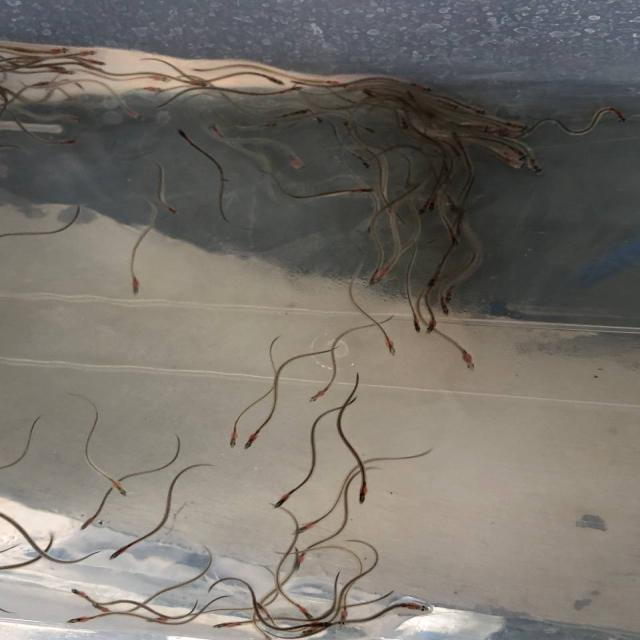glass_eel: (280, 146, 307, 170), (391, 598, 432, 613), (39, 41, 73, 58), (297, 617, 329, 635), (105, 541, 132, 562), (271, 489, 298, 509), (240, 430, 265, 451), (226, 425, 246, 450), (141, 613, 176, 627), (458, 349, 480, 371), (409, 82, 441, 97), (212, 619, 251, 631), (206, 121, 226, 144), (49, 135, 86, 147), (119, 107, 145, 124), (51, 114, 86, 126), (612, 108, 634, 127), (142, 71, 174, 84), (504, 154, 527, 172), (46, 62, 75, 76), (349, 183, 378, 197), (292, 520, 321, 534), (91, 600, 120, 614), (64, 613, 91, 628), (289, 553, 309, 573), (332, 607, 352, 627), (309, 383, 330, 402), (67, 588, 95, 602), (286, 105, 310, 121), (530, 158, 549, 178), (449, 130, 469, 149), (425, 270, 444, 290), (109, 478, 129, 497), (424, 312, 438, 339), (140, 84, 169, 97), (383, 333, 398, 358), (438, 295, 454, 318), (309, 617, 335, 631), (310, 78, 343, 89), (355, 153, 374, 172), (277, 82, 307, 94), (362, 268, 382, 286), (442, 284, 458, 306), (293, 604, 315, 620), (77, 58, 112, 68), (255, 74, 284, 86), (62, 48, 96, 58), (188, 78, 214, 91), (409, 312, 424, 334), (80, 512, 96, 532), (128, 276, 144, 296), (415, 198, 432, 216), (173, 131, 196, 144), (394, 117, 413, 132), (512, 122, 532, 136), (429, 193, 441, 216), (441, 100, 462, 113), (376, 267, 392, 284), (32, 82, 61, 91), (250, 601, 270, 614), (341, 120, 356, 137), (448, 141, 465, 156), (356, 488, 368, 508), (163, 202, 181, 214), (469, 106, 488, 117), (312, 113, 328, 126), (361, 122, 378, 134), (365, 220, 377, 236)
